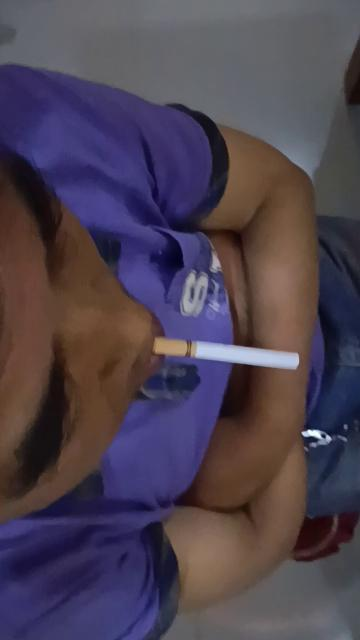Cigarette: (150, 337, 302, 371)
